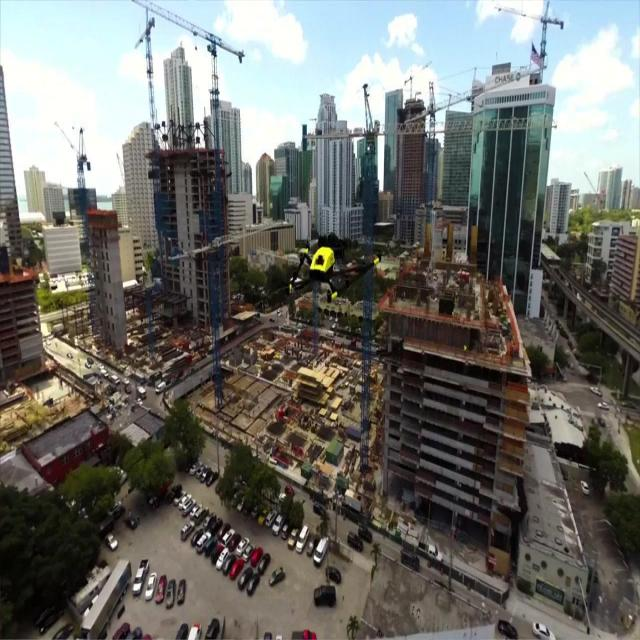UAV: (286, 246, 382, 304)
